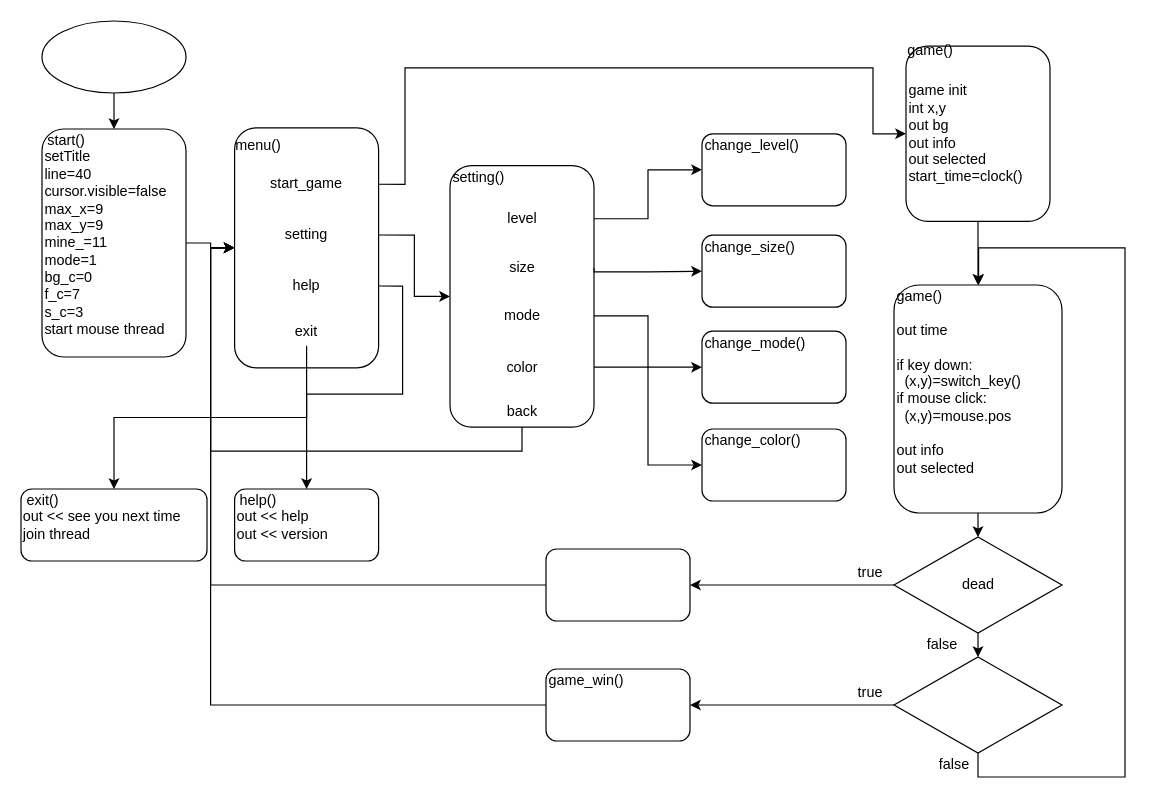
This 1156x808 diagram has some shape labels left out. Each missing label, with the centre of its shape:
"game_over()" belongs at point (617, 584).
"start" belongs at point (113, 56).
"win" belongs at point (977, 704).
